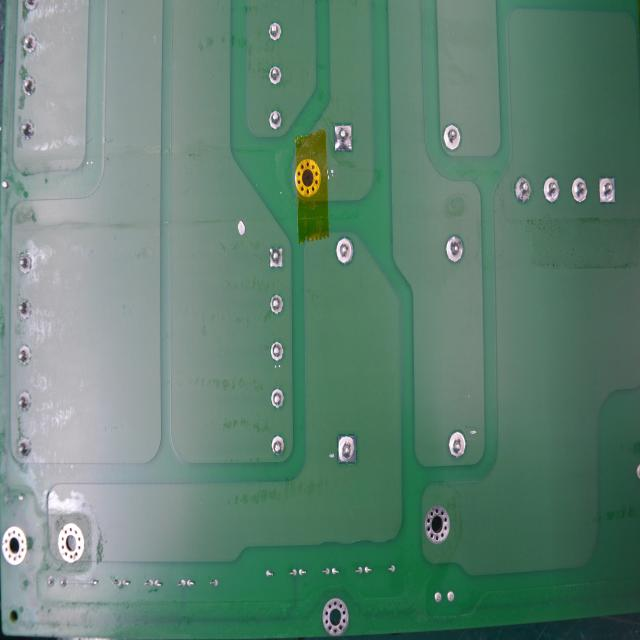spillover: (235, 217, 247, 238), (465, 427, 477, 439), (328, 166, 336, 183), (327, 452, 334, 460)
